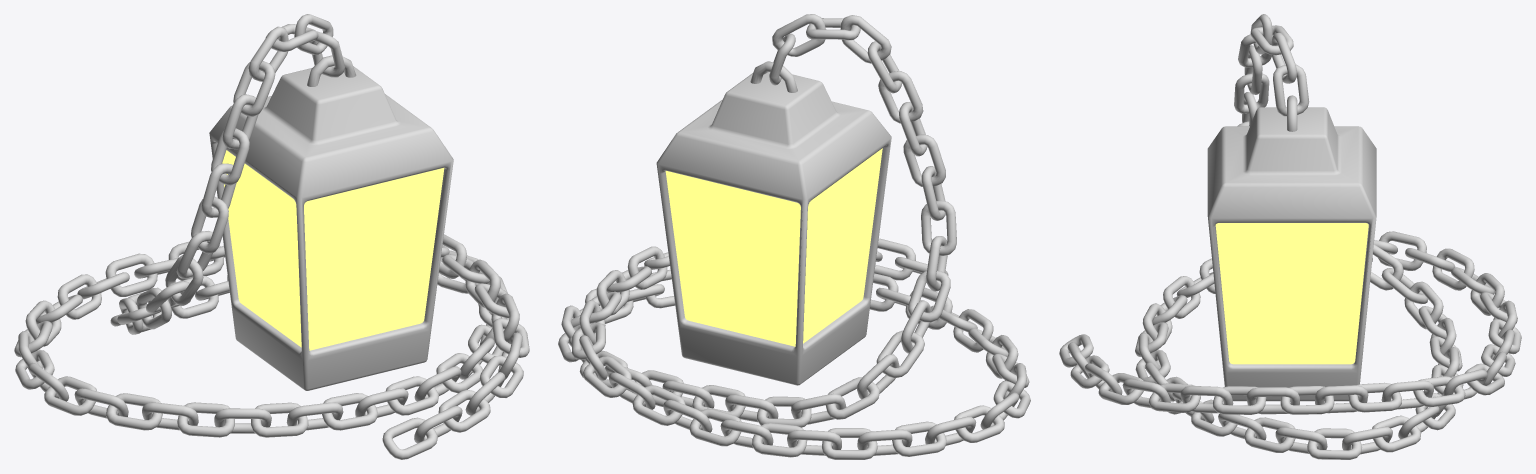
The model's file is lantern.glb.
The picture shows the model from 3 angles, left to right: view 1: azimuth 30°, elevation 25°; view 2: azimuth 150°, elevation 25°; view 3: azimuth 270°, elevation 25°; orthographic projection. The views are drawn at different scales.
Parts seen in each view (by area): view 1: chain, Plane, Plane.001; view 2: chain, Plane, Plane.001; view 3: chain, Plane, Plane.001.
Boxes of the visible parts, x1,y1,x2,y2 form: chain: [14, 14, 529, 459]; Plane: [209, 55, 453, 390]; Plane.001: [222, 150, 444, 350]; chain: [558, 14, 1030, 459]; Plane: [656, 61, 891, 385]; Plane.001: [665, 148, 882, 346]; chain: [1059, 14, 1521, 459]; Plane: [1207, 95, 1376, 401]; Plane.001: [1215, 223, 1368, 364].
Size of the model in its own units: 3.66 by 2.71 by 3.41.
